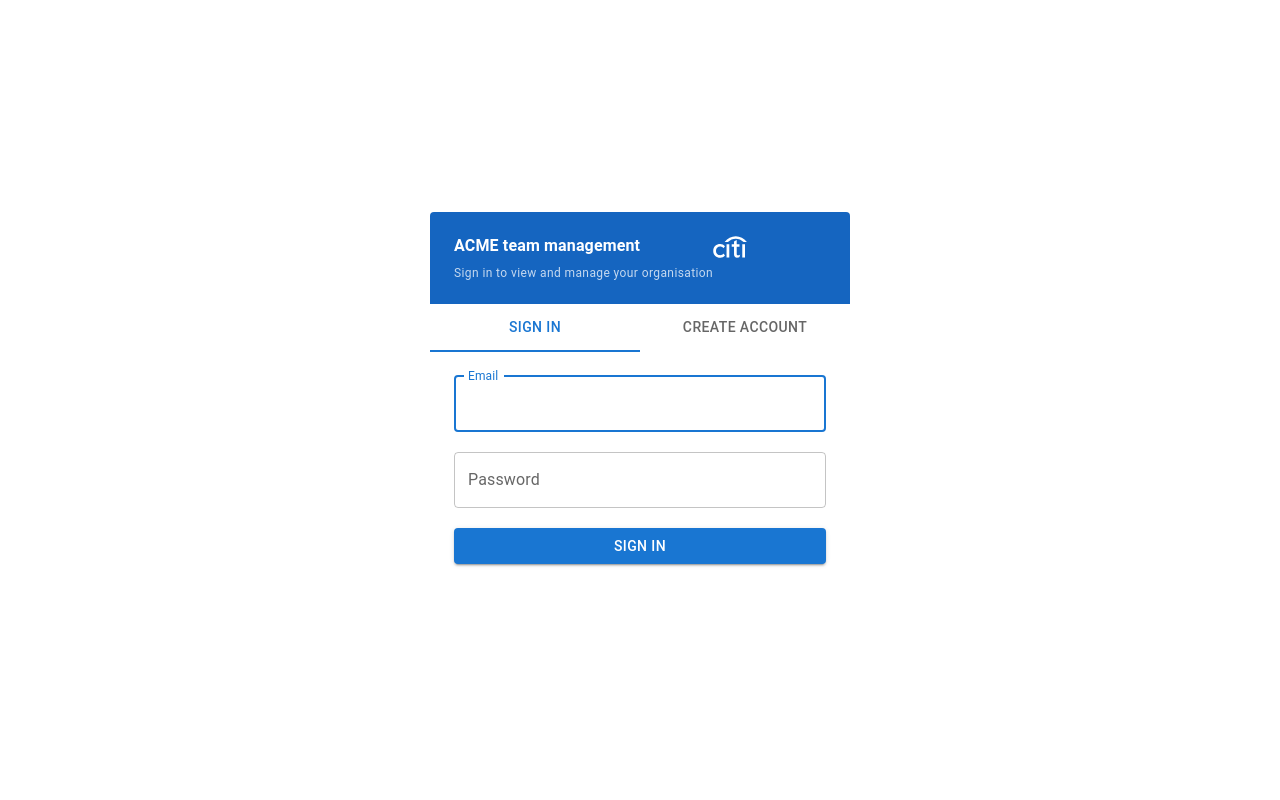
Test: the sign in form › keeps the email in the box after a failure
This screenshot has width=1280, height=800.
In the field labelled "Email": (640, 404) top-left (454, 376), bottom-right (826, 432), type "sasha@acme.com"
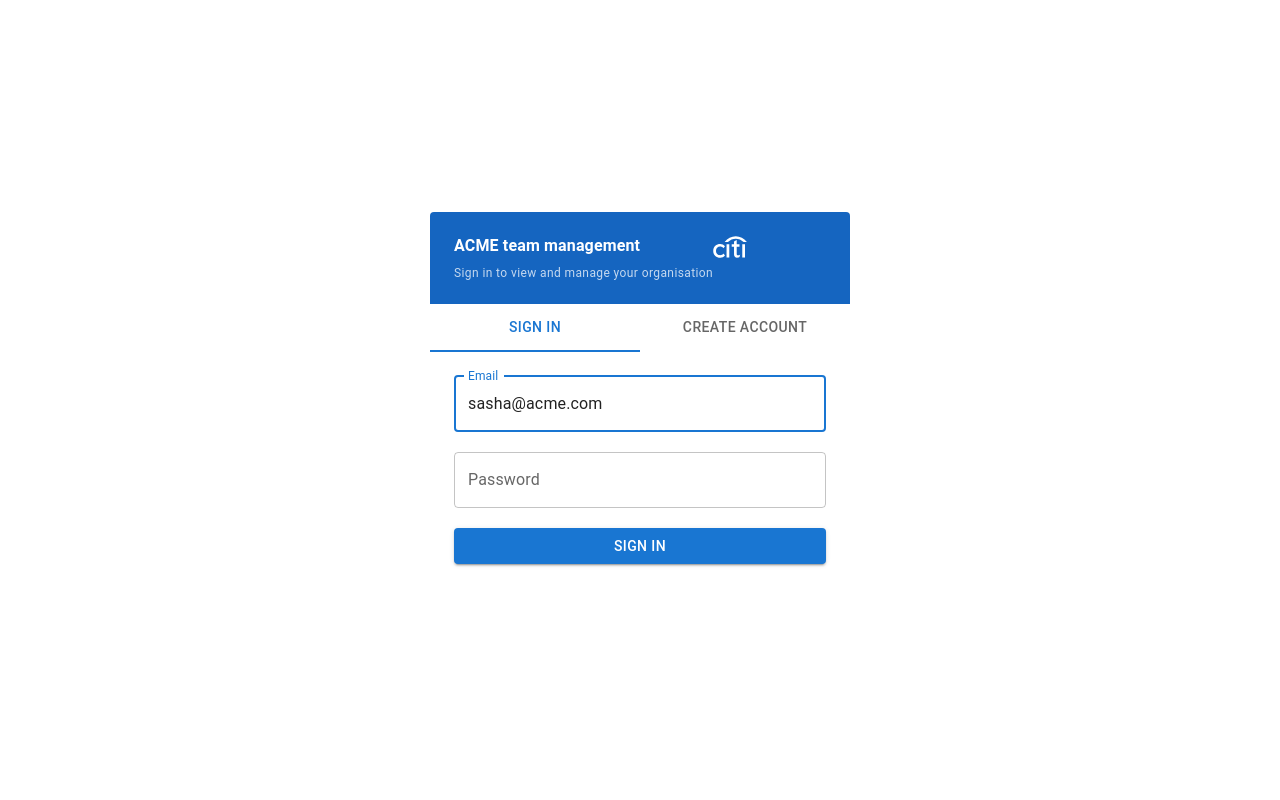
In the password field labelled "Password": (640, 480) top-left (454, 452), bottom-right (826, 508), type "wrong"
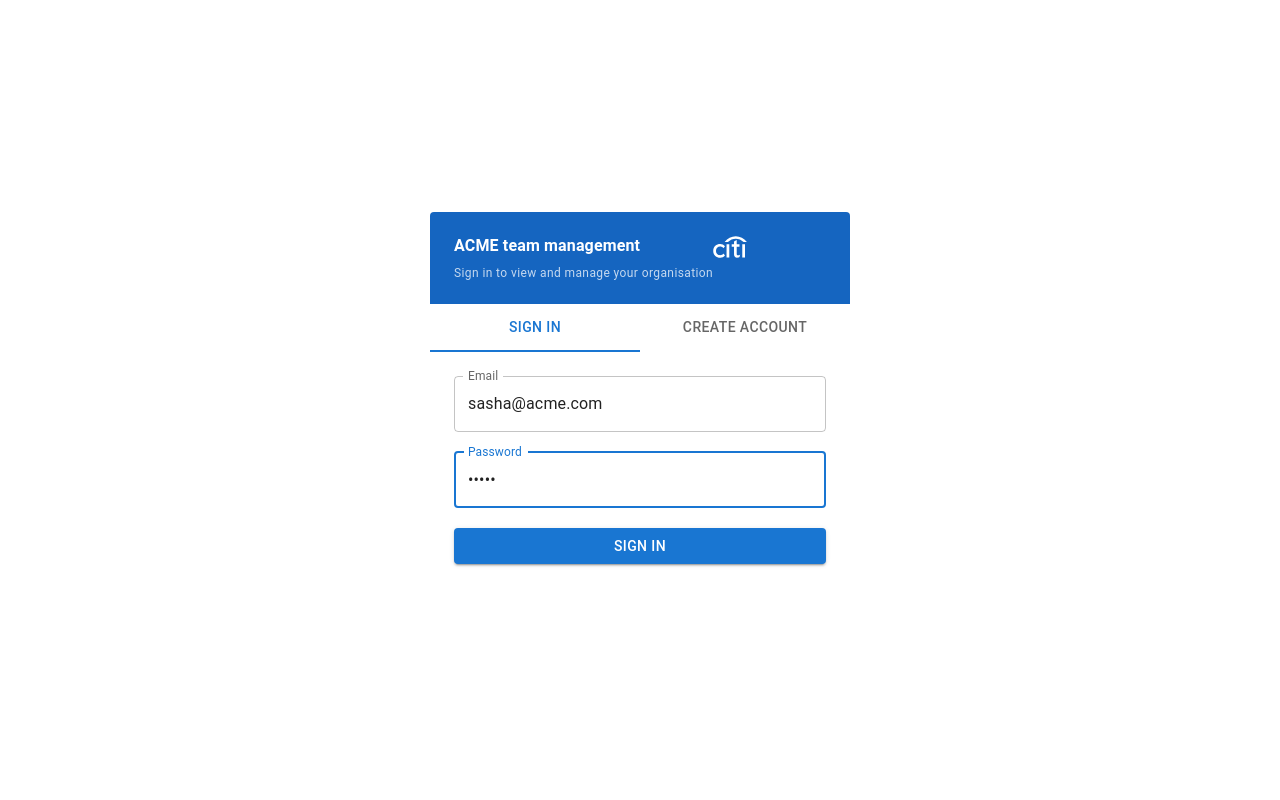
Click the button "Sign in": click(640, 546) top-left (454, 528), bottom-right (826, 564)
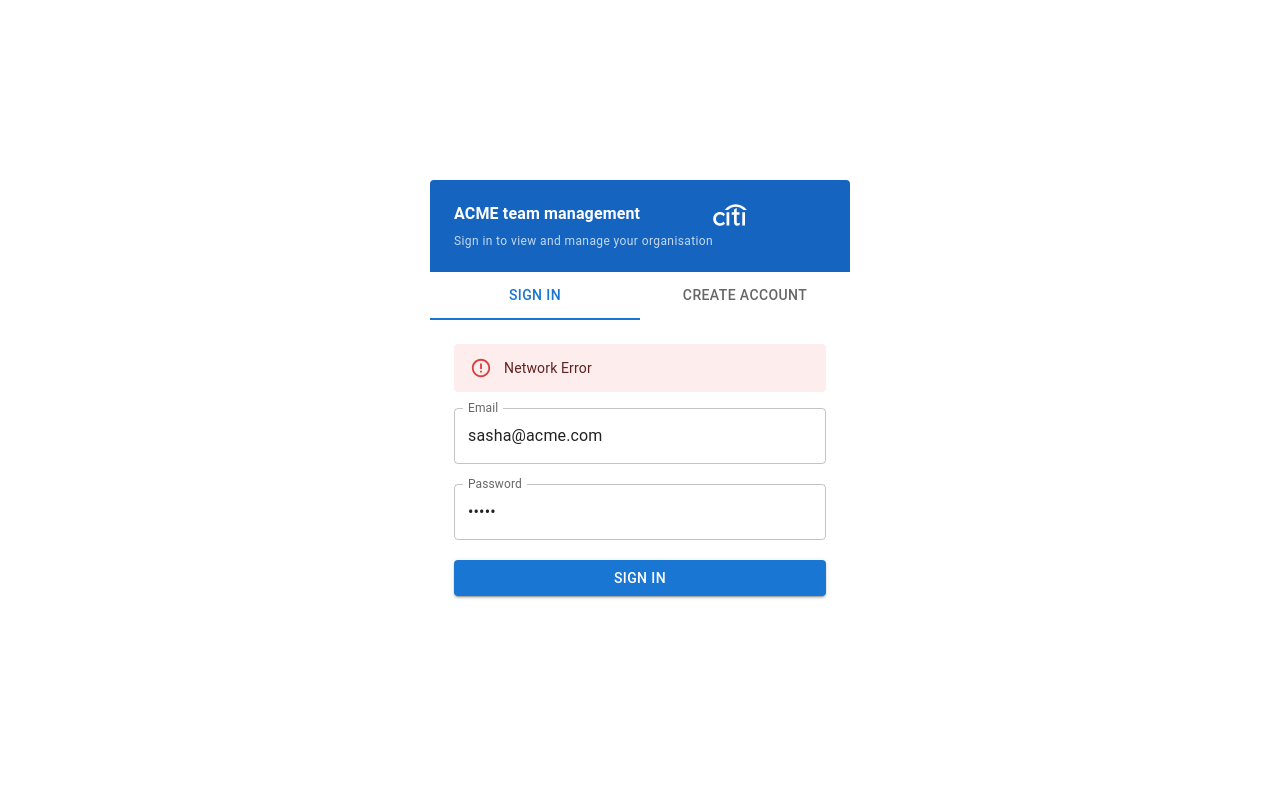
Check: the text "Network Error" is shown, box top-left (504, 360), bottom-right (592, 376)
